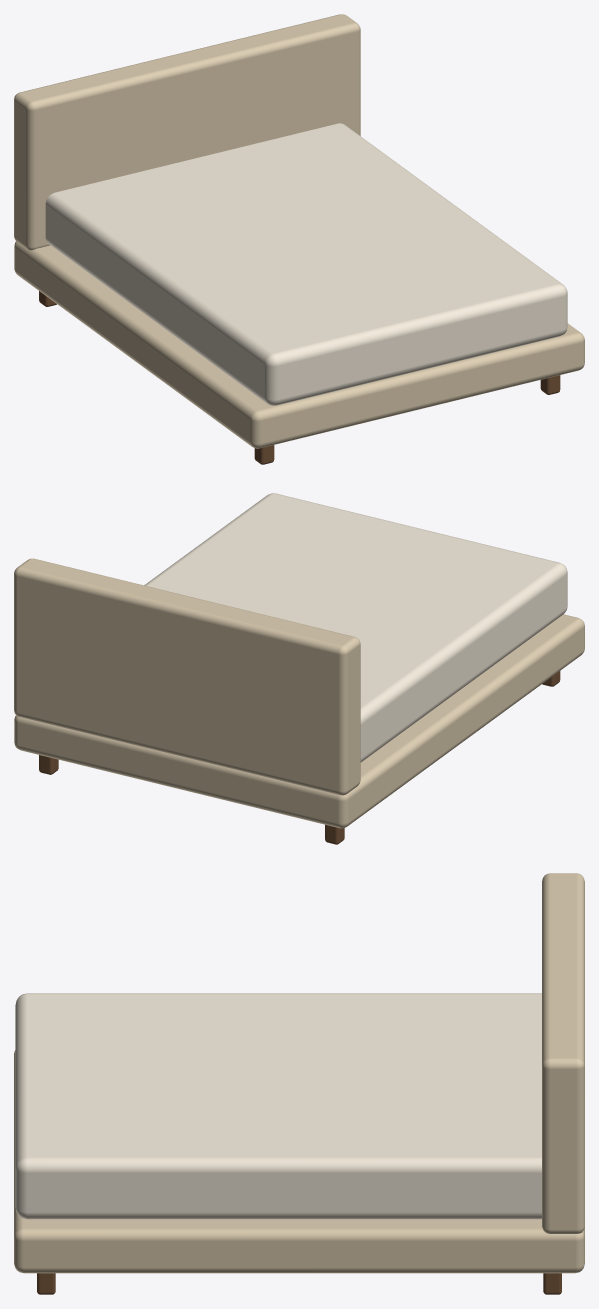
The model's file is nook-bed.glb.
The picture shows the model from 3 angles, top to bottom: view 1: azimuth 30°, elevation 25°; view 2: azimuth 150°, elevation 25°; view 3: azimuth 270°, elevation 25°; orthographic projection. The views are drawn at different scales.
Parts seen in each view (by area): view 1: Mattress, Headboard, Bed frame; view 2: Headboard, Mattress, Bed frame; view 3: Mattress, Bed frame, Headboard.
Boxes of the visible parts, box(x1,y1,x2,y2) form: Mattress: box(45, 123, 567, 405); Headboard: box(14, 14, 360, 250); Bed frame: box(14, 241, 584, 448); Headboard: box(14, 558, 360, 795); Mattress: box(144, 493, 567, 762); Bed frame: box(14, 614, 584, 828); Mattress: box(15, 993, 541, 1219); Bed frame: box(14, 1050, 584, 1273); Headboard: box(542, 873, 584, 1233).
Bounding box in the file's own units: 1.68 × 1 × 2.12.
